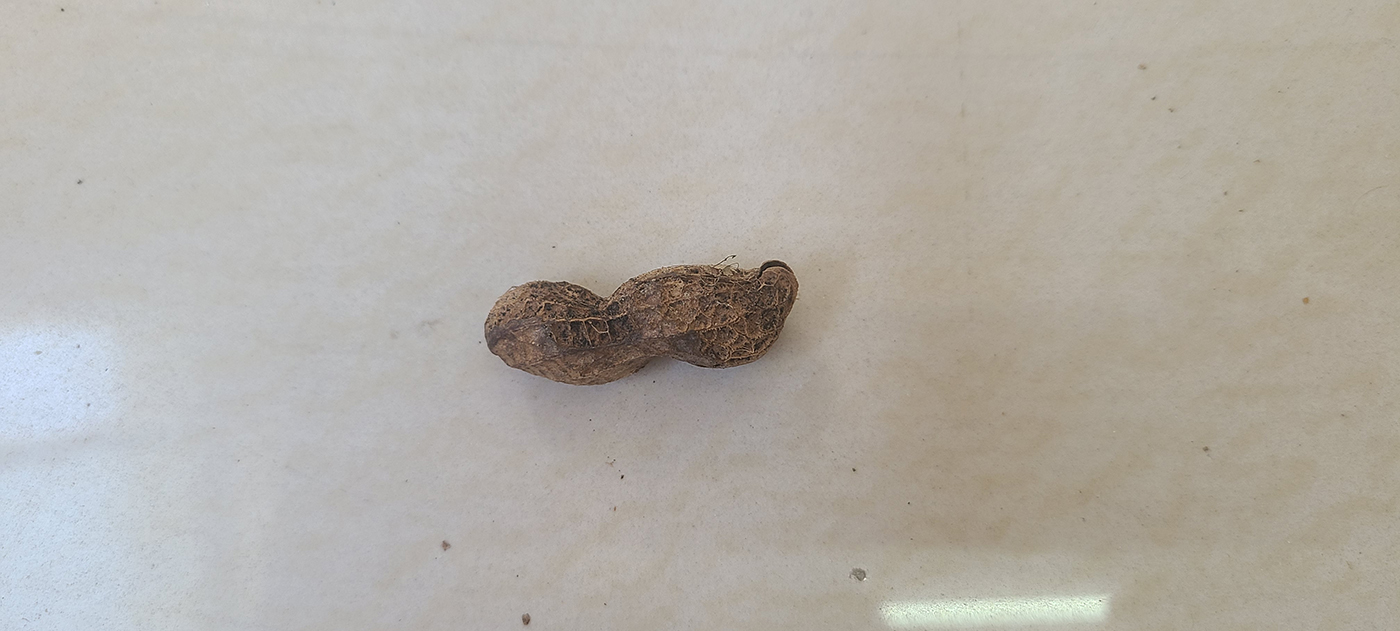l: (475, 257, 801, 386)
